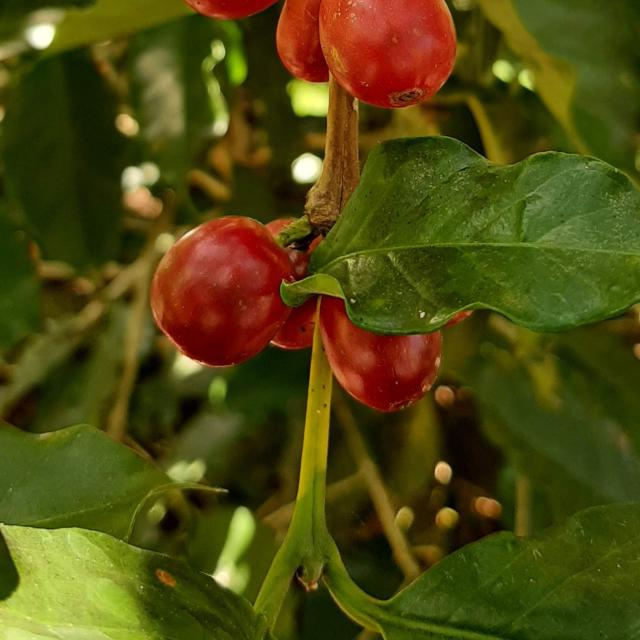Ripe: (150, 216, 294, 367), (319, 0, 457, 107), (319, 296, 442, 413), (276, 0, 329, 81), (271, 297, 318, 350)
